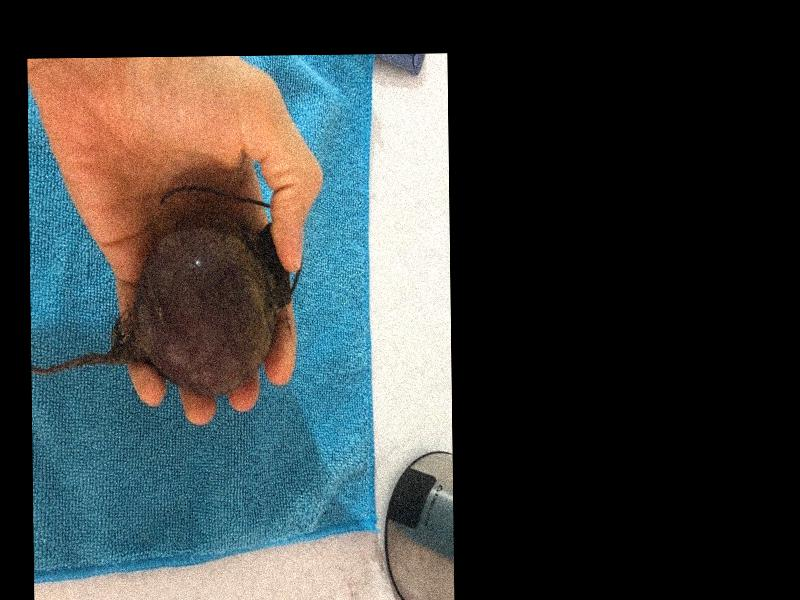Beet: (28, 185, 303, 399)
